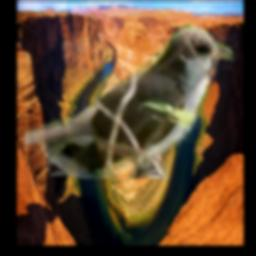Cuckoo: (24, 24, 233, 179)
